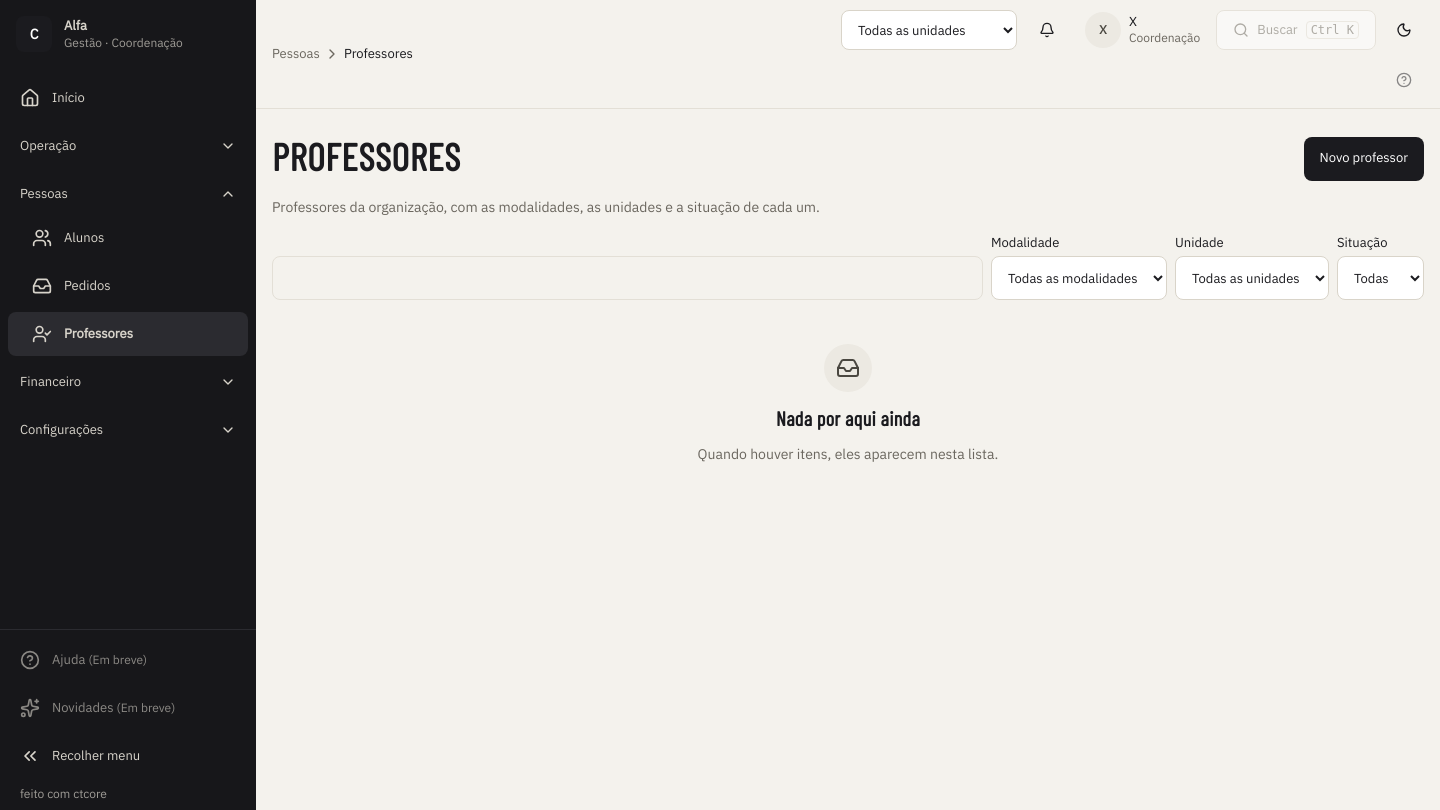
Test: TeacherFormDialog (RF-PRO-03, CA12) › opções: com erro oferece Tentar de novo e depois mostra o formulário
The image size is (1440, 810).
Click the button "Novo professor" at (1364, 158), box [1304, 136, 1424, 180]
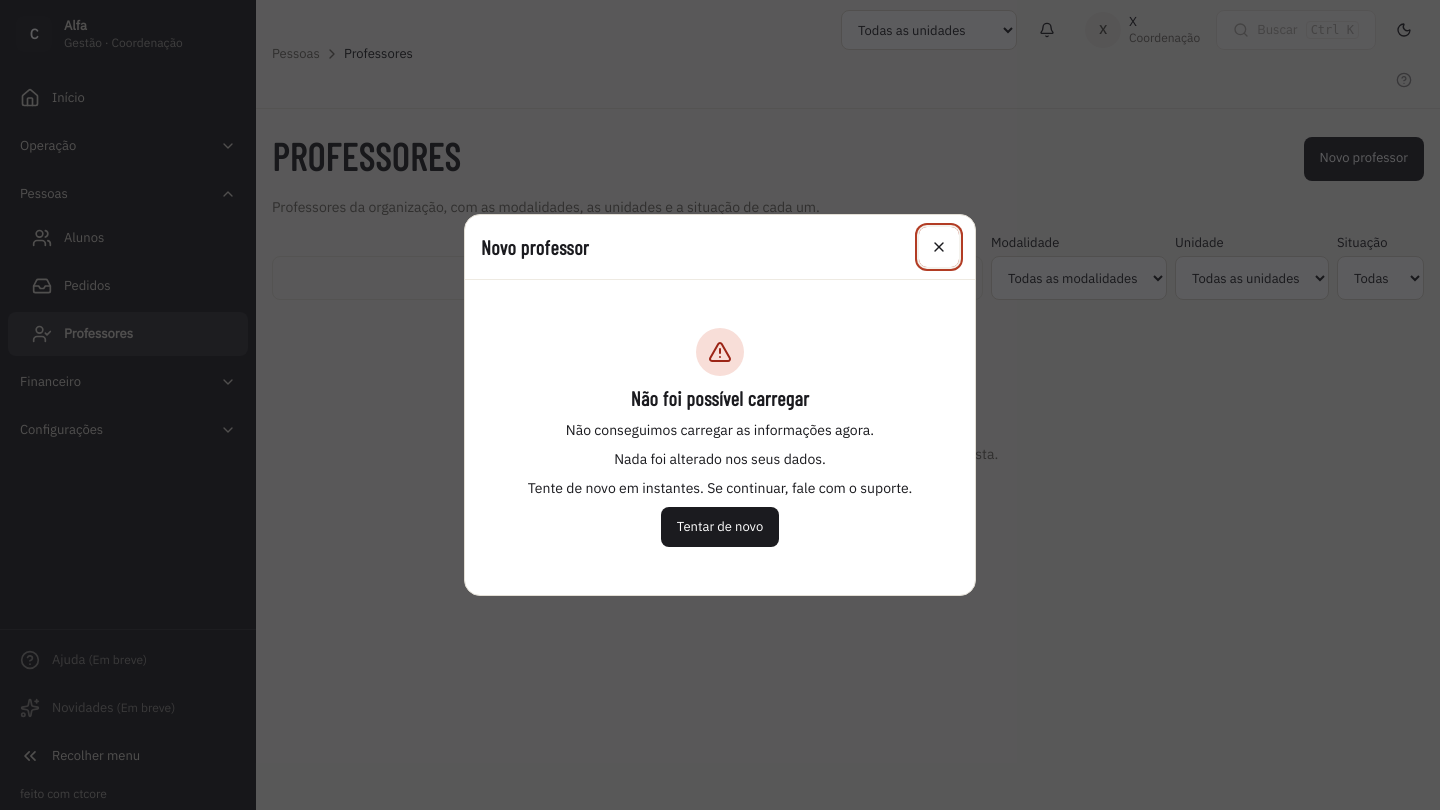
Click the button "Tentar de novo" at (720, 527), box [661, 507, 779, 547]
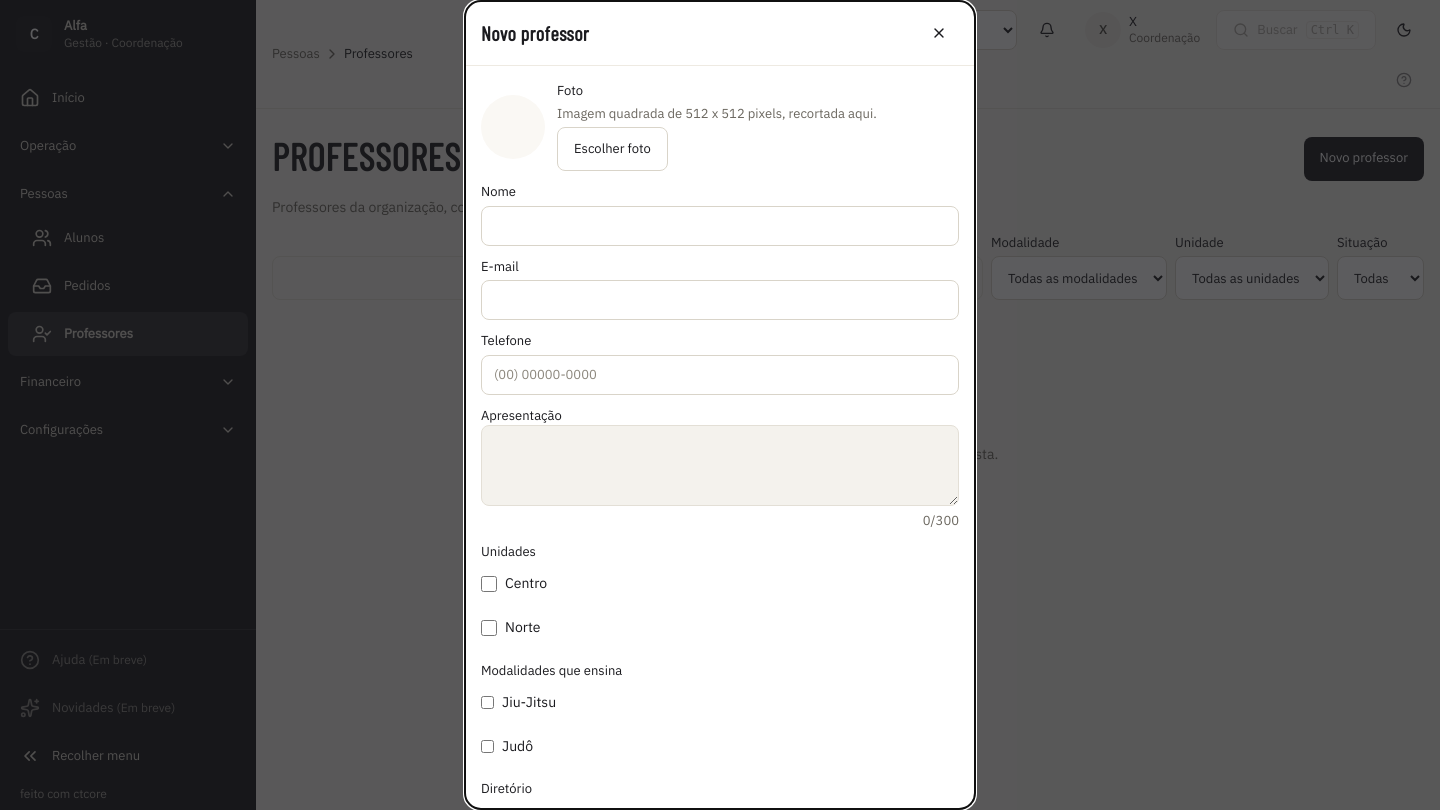
Now the field labelled "Nome" is shown, box [481, 206, 959, 246]
